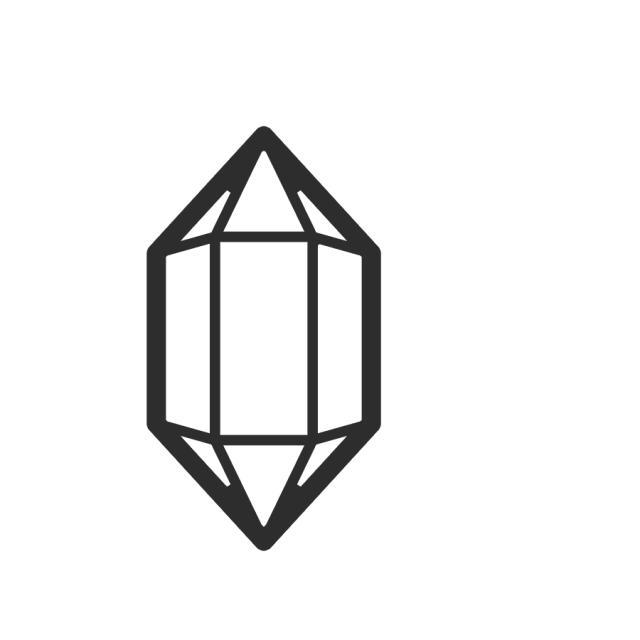crystal: (141, 121, 390, 557)
